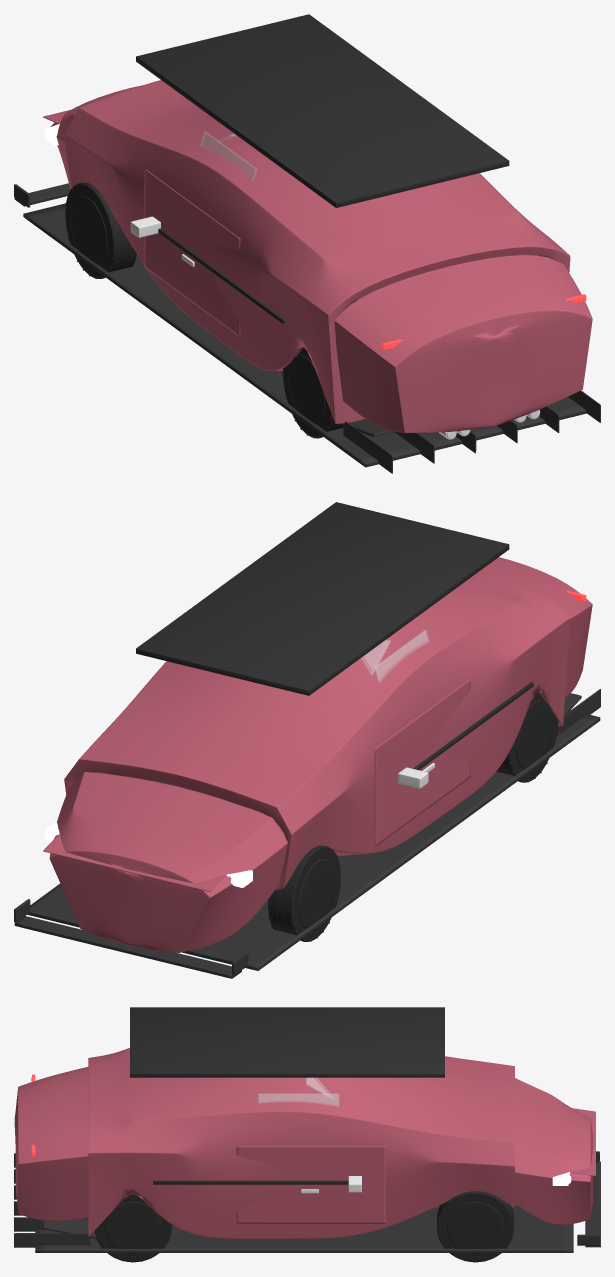
File: Car_Dodge_Grand_Caravan_1990s_Complete.glb
3 renders of one model, top to bottom at view 1: azimuth 30°, elevation 25°; view 2: azimuth 150°, elevation 25°; view 3: azimuth 270°, elevation 25°, orthographic. The views are drawn at different scales.
Visible parts, largest first — view 1: BODY_MainShell, JEWELRY_Caravan_RoofRack, UNDERBODY_FlatFloor, BODY_Door_FL, WHEEL_FL_Tire, WHEEL_RL_Tire, JEWELRY_Hardware, GLASS_Greenhouse, JEWELRY_Caravan_Tracks, AERO_FrontSplitter; view 2: BODY_MainShell, JEWELRY_Caravan_RoofRack, UNDERBODY_FlatFloor, BODY_Door_FL, WHEEL_FL_Tire, AERO_FrontSplitter, WHEEL_RL_Tire, GLASS_Greenhouse, BODY_Hood, JEWELRY_Caravan_Tracks; view 3: BODY_MainShell, JEWELRY_Caravan_RoofRack, UNDERBODY_FlatFloor, BODY_Door_FR, WHEEL_FR_Tire, WHEEL_RR_Tire, GLASS_Greenhouse, AERO_FrontSplitter, JEWELRY_Caravan_Tracks, BODY_Hood.
Part boxes in pixels (<box>): BODY_MainShell: <box>50,80,592,432</box>; JEWELRY_Caravan_RoofRack: <box>136,14,509,207</box>; UNDERBODY_FlatFloor: <box>23,203,600,473</box>; BODY_Door_FL: <box>144,169,240,336</box>; WHEEL_FL_Tire: <box>64,182,136,278</box>; WHEEL_RL_Tire: <box>282,347,343,438</box>; JEWELRY_Hardware: <box>130,216,540,439</box>; GLASS_Greenhouse: <box>200,131,257,180</box>; JEWELRY_Caravan_Tracks: <box>158,228,284,323</box>; AERO_FrontSplitter: <box>14,183,70,207</box>; BODY_MainShell: <box>49,557,592,952</box>; JEWELRY_Caravan_RoofRack: <box>136,502,509,695</box>; UNDERBODY_FlatFloor: <box>27,689,600,970</box>; BODY_Door_FL: <box>374,678,470,846</box>; WHEEL_FL_Tire: <box>267,845,341,941</box>; AERO_FrontSplitter: <box>14,899,248,978</box>; WHEEL_RL_Tire: <box>496,691,558,782</box>; GLASS_Greenhouse: <box>361,629,429,682</box>; BODY_Hood: <box>43,833,226,891</box>; JEWELRY_Caravan_Tracks: <box>413,682,533,770</box>; BODY_MainShell: <box>14,1048,593,1238</box>; JEWELRY_Caravan_RoofRack: <box>130,1007,444,1077</box>; UNDERBODY_FlatFloor: <box>14,1153,573,1252</box>; BODY_Door_FR: <box>236,1145,385,1223</box>; WHEEL_FR_Tire: <box>437,1191,514,1262</box>; WHEEL_RR_Tire: <box>94,1194,171,1262</box>; GLASS_Greenhouse: <box>258,1077,339,1106</box>; AERO_FrontSplitter: <box>577,1151,600,1247</box>; JEWELRY_Caravan_Tracks: <box>153,1180,348,1184</box>; BODY_Hood: <box>569,1108,595,1175</box>.
Size of what is drawn, in the model's own units: 2.33 by 1.75 by 5.2.
